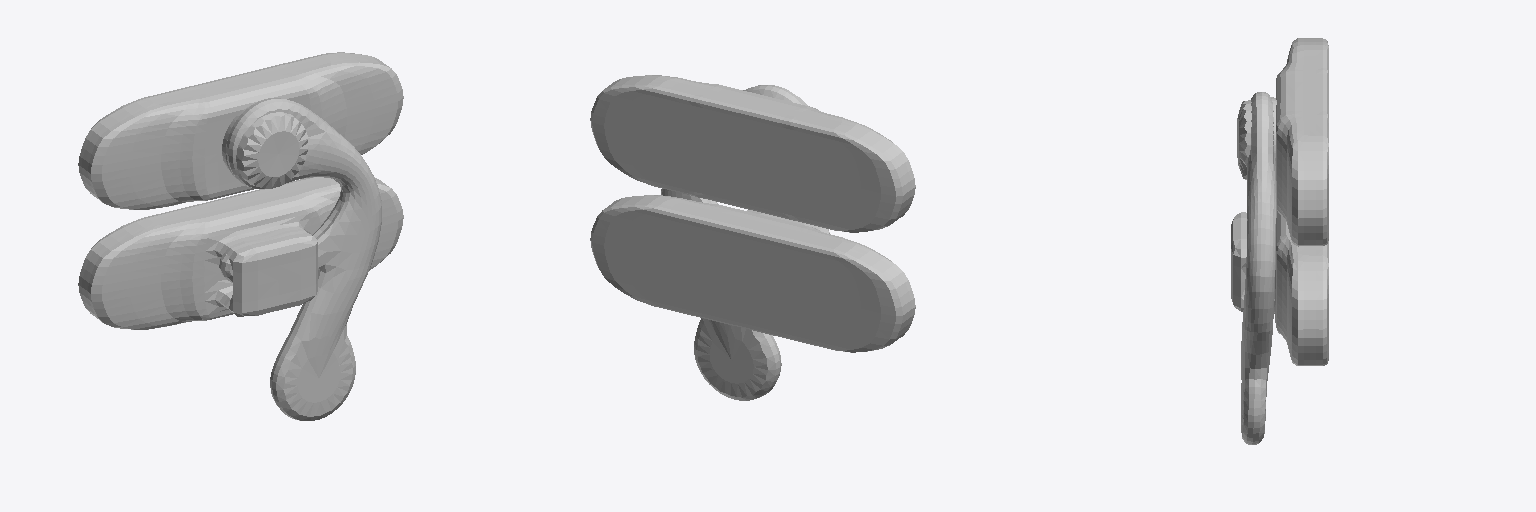
File: lock.obj
3 renders of one model, left to right at view 1: azimuth 30°, elevation 25°; view 2: azimuth 150°, elevation 25°; view 3: azimuth 270°, elevation 25°, orthographic.
Parts seen in each view (by area): view 1: pCube15 group9, group9 pCube17, group9 pCylinder17, group9 pCylinder15; view 2: pCube15 group9, group9 pCube17, group9 pCylinder17; view 3: group9 pCube17, group9 pCylinder17, pCube15 group9, group9 pCylinder15.
Part boxes in pixels (x1,y1,x2,y2): pCube15 group9: (78, 177, 403, 329); group9 pCube17: (78, 52, 403, 209); group9 pCylinder17: (219, 98, 381, 420); group9 pCylinder15: (222, 106, 307, 188); pCube15 group9: (590, 195, 915, 352); group9 pCube17: (590, 75, 915, 232); group9 pCylinder17: (661, 85, 805, 400); group9 pCube17: (1276, 38, 1328, 246); group9 pCylinder17: (1241, 92, 1276, 444); pCube15 group9: (1231, 211, 1328, 365); group9 pCylinder15: (1237, 97, 1276, 179).
Size of the model in its own units: 0.884 by 0.8834 by 0.2398.